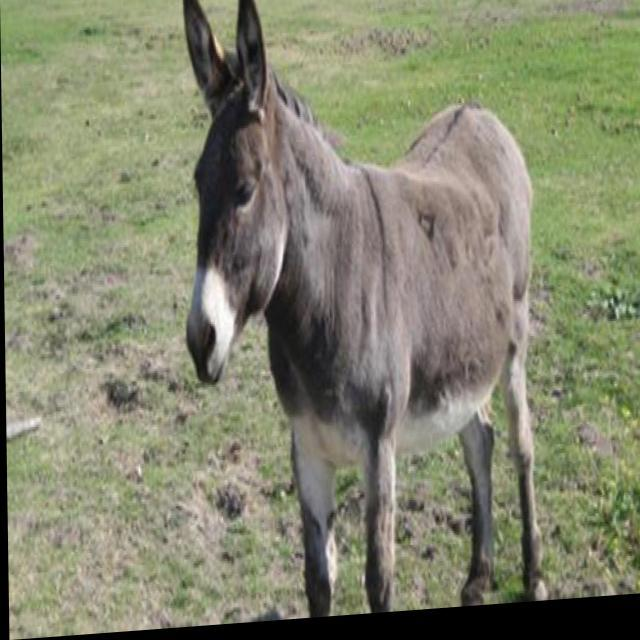Donkey: (179, 0, 546, 630)
